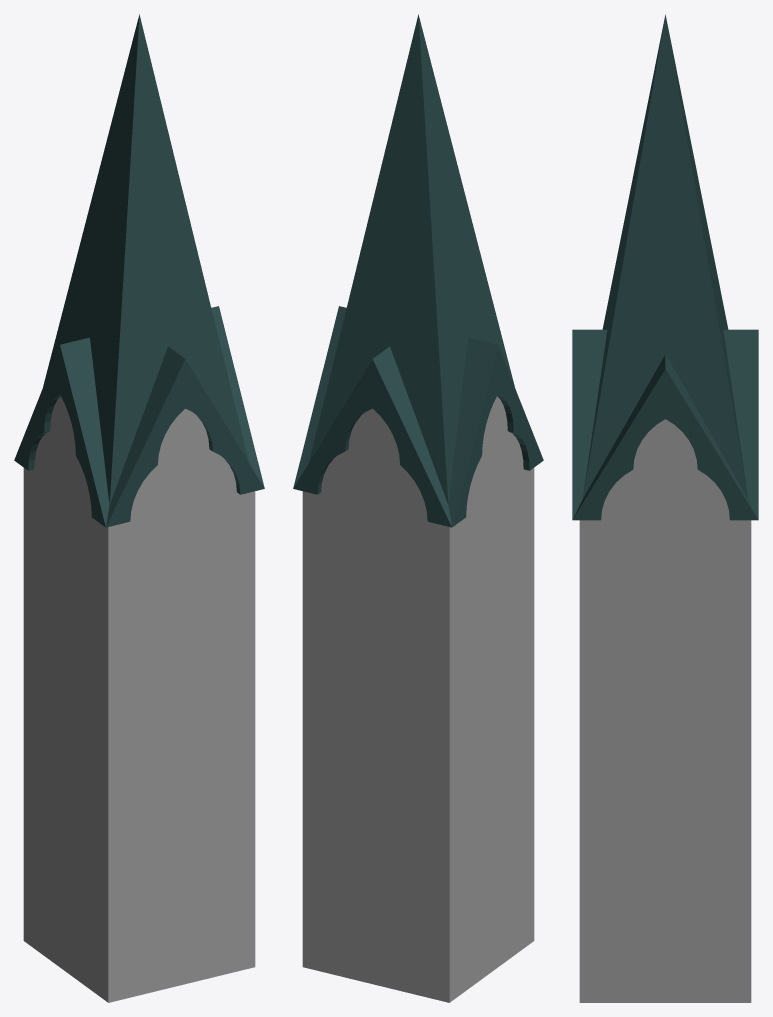
Rendered from Prop_Gothic_Building_Peak_Roof_Top_01.FBX.
The picture shows the model from 3 angles, left to right: view 1: azimuth 30°, elevation 25°; view 2: azimuth 150°, elevation 25°; view 3: azimuth 270°, elevation 25°; orthographic projection.
Parts seen in each view (by area): view 1: Prop_Gothic_Building_Peak_Roof_Top_01; view 2: Prop_Gothic_Building_Peak_Roof_Top_01; view 3: Prop_Gothic_Building_Peak_Roof_Top_01.
Part boxes in pixels (x1,y1,x2,y2): Prop_Gothic_Building_Peak_Roof_Top_01: (14,14,264,1002); Prop_Gothic_Building_Peak_Roof_Top_01: (293,14,543,1002); Prop_Gothic_Building_Peak_Roof_Top_01: (572,14,758,1002).
Size of the model in its own units: 704 by 3979 by 704.
